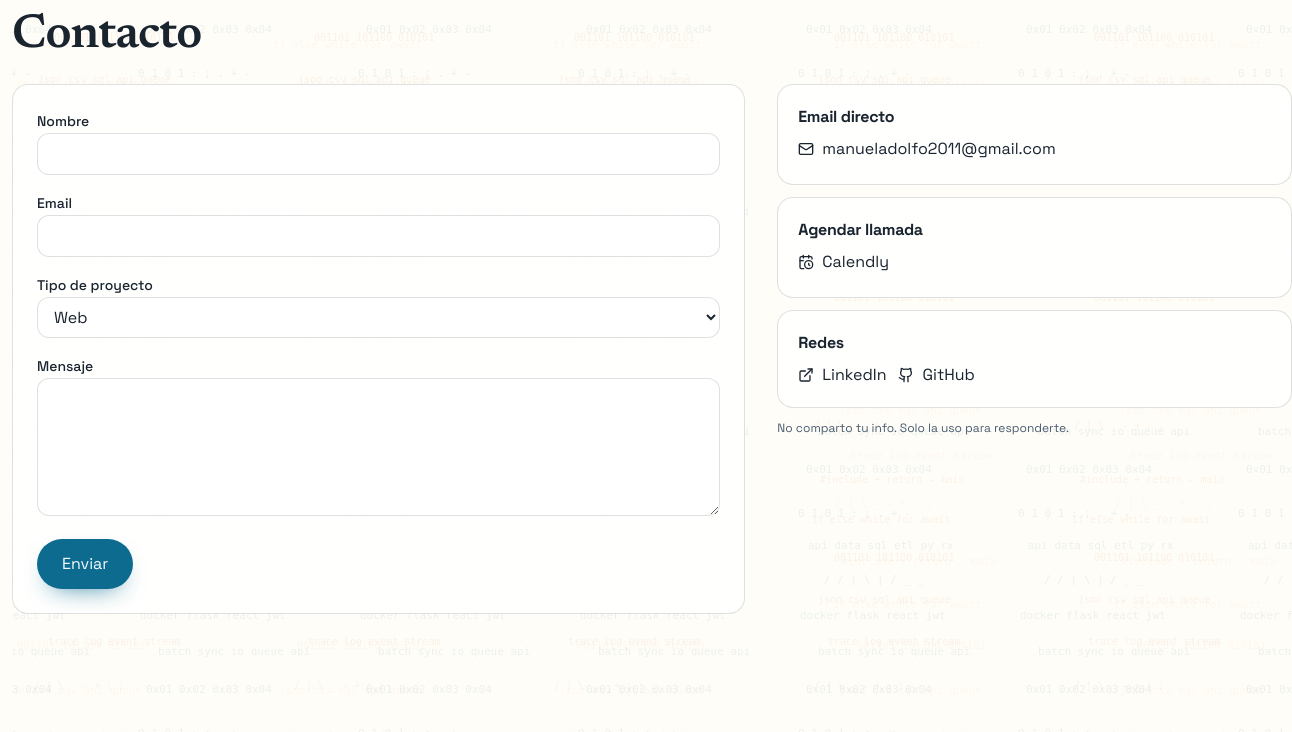
it: ContactSection › envia el formulario y muestra mensaje de exito
The image size is (1292, 732).
Step 1. Type "Manuel" into the field labelled "Nombre" → (379, 154), box x1=37 y1=133 x2=720 y2=175
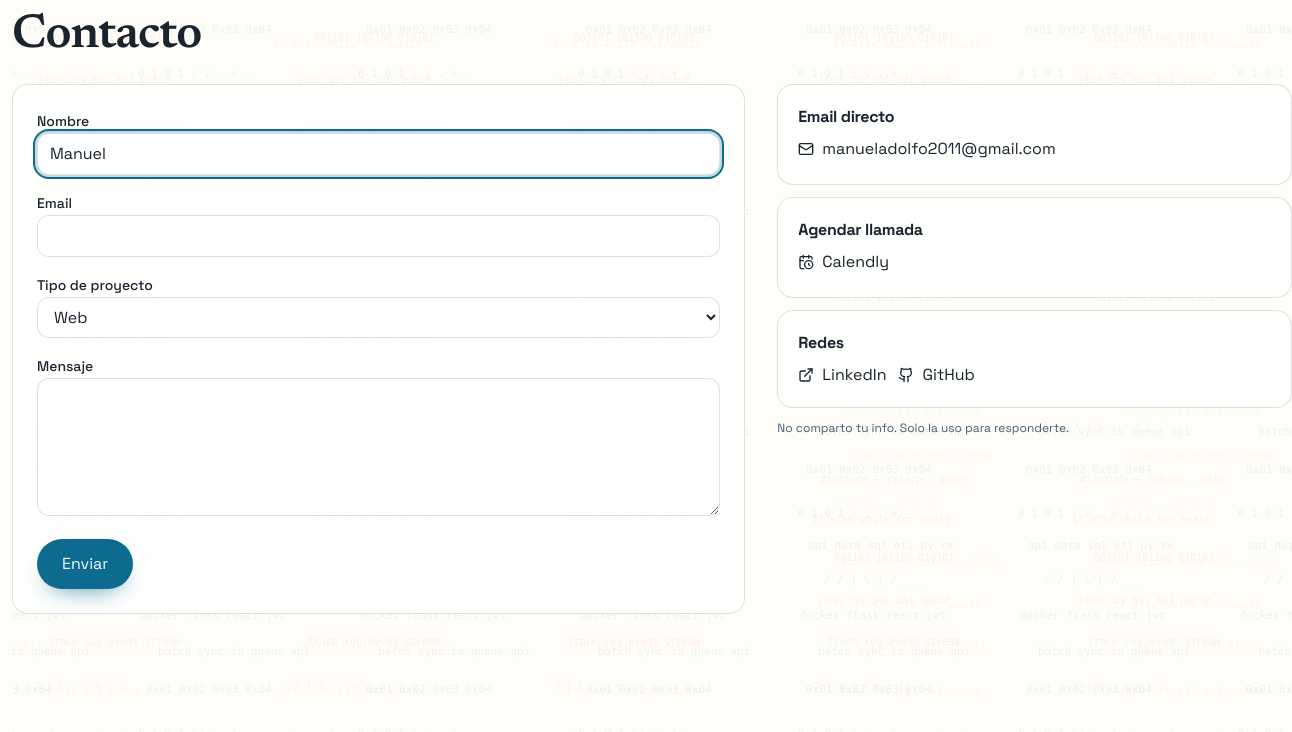
Step 2. Type "manuel@email.com" into the field labelled "Email" → (379, 236), box x1=37 y1=215 x2=720 y2=257
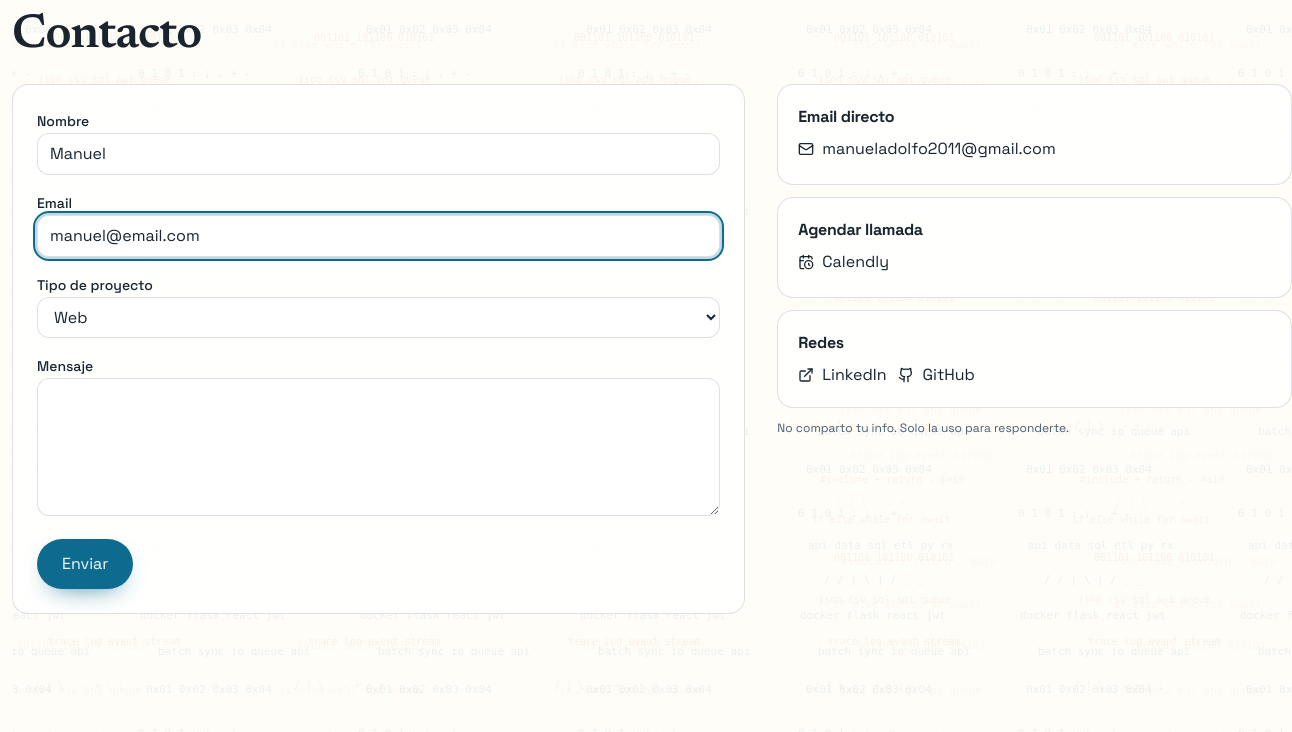
Step 3. Select "API" in the dropdown labelled "Tipo de proyecto" → (379, 318), box x1=37 y1=297 x2=720 y2=338
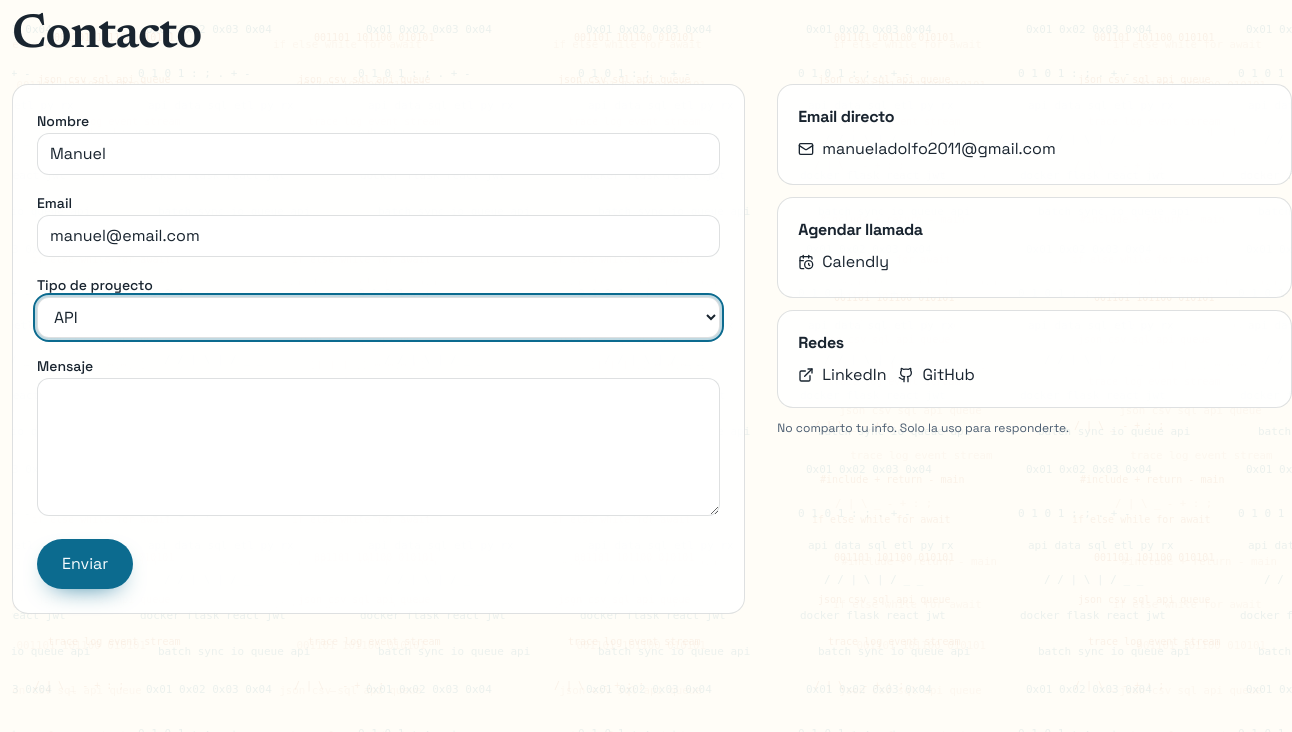
Step 4. Type "Necesito una API con autenticacion." into the text box labelled "Mensaje" → (379, 447), box x1=37 y1=378 x2=720 y2=516
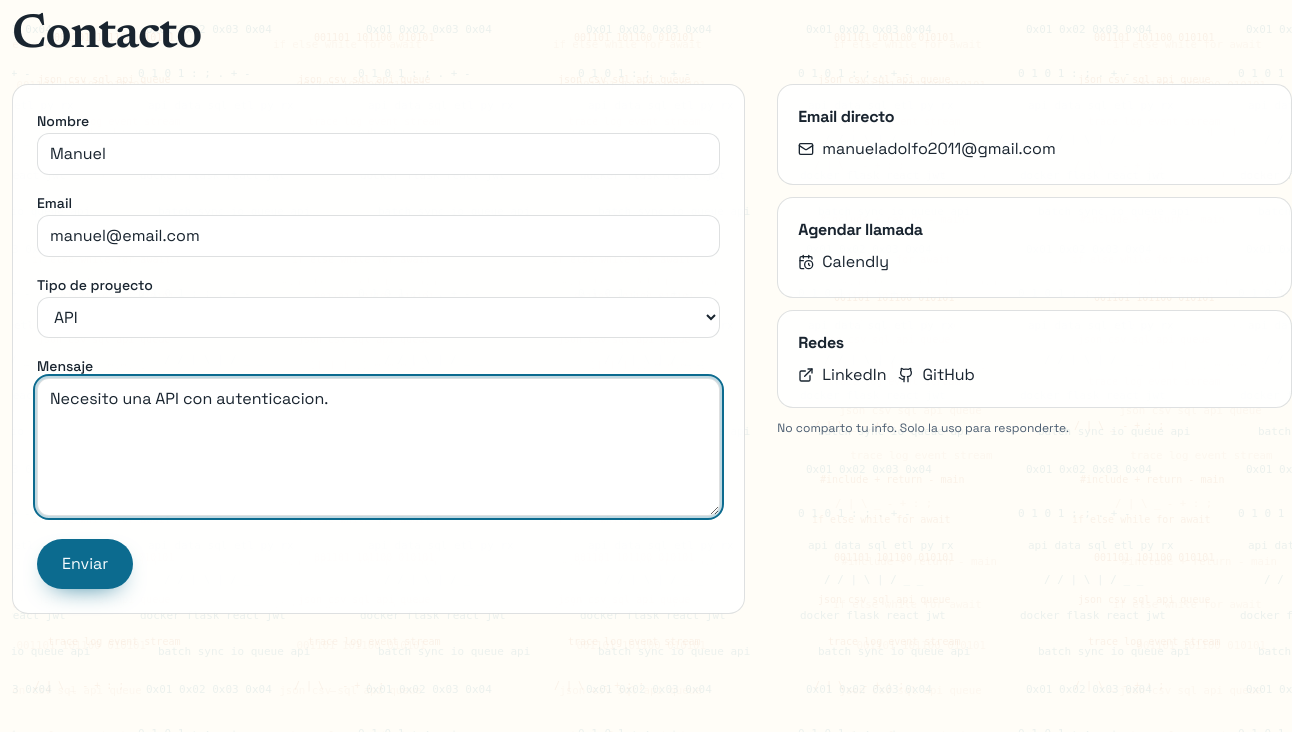
Step 5. Click the button "Enviar" → (85, 564), box x1=37 y1=539 x2=133 y2=589
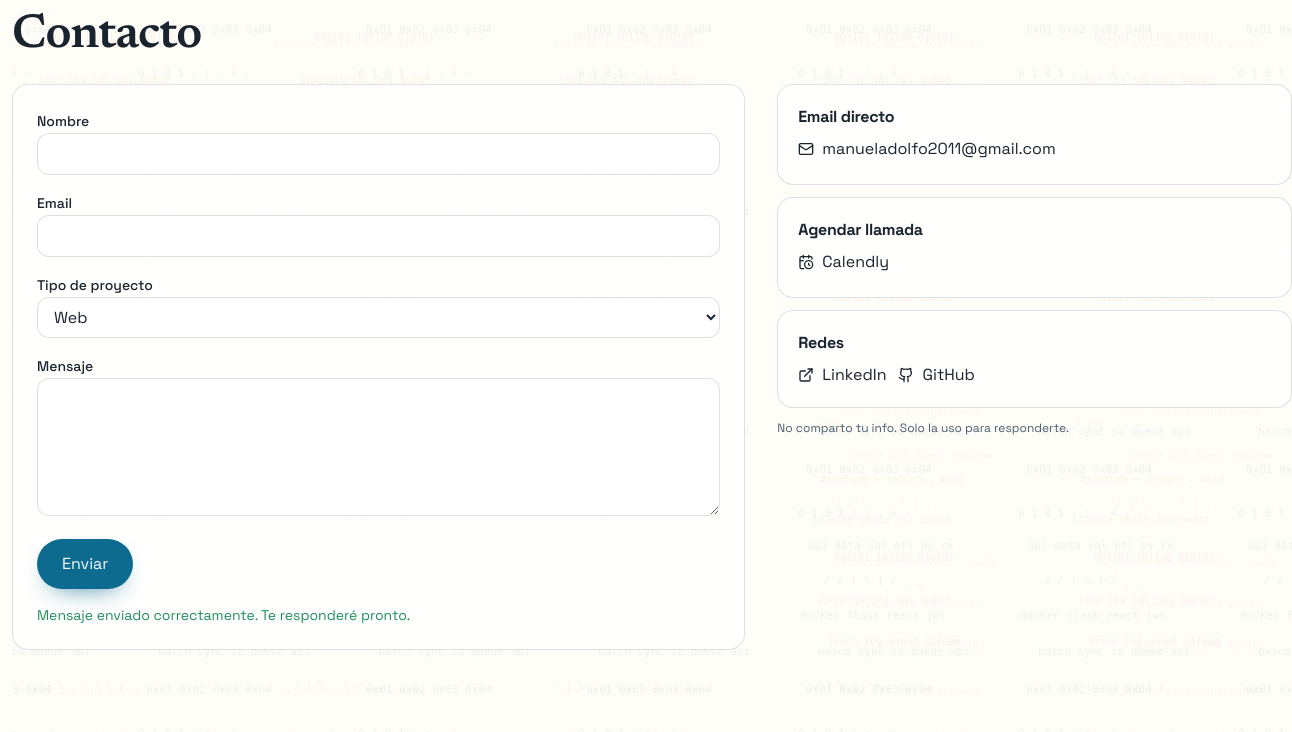
Expected: the text "Mensaje enviado correctamente. Te responderé pronto." is shown, x1=37 y1=606 x2=410 y2=624
Expected: the field labelled "Nombre" is empty, x1=37 y1=133 x2=720 y2=175
Expected: the field labelled "Email" is empty, x1=37 y1=215 x2=720 y2=257
